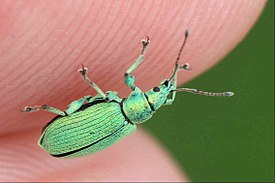dolgonosik: (22, 36, 235, 159)
